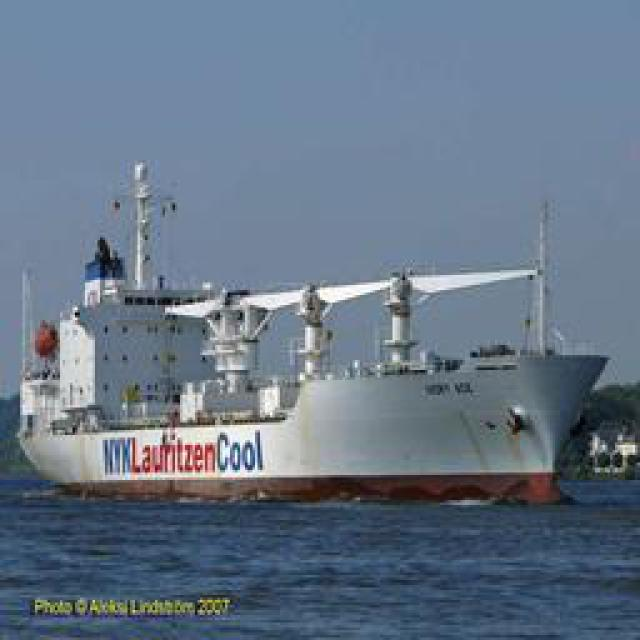Ship: (17, 165, 610, 498)
